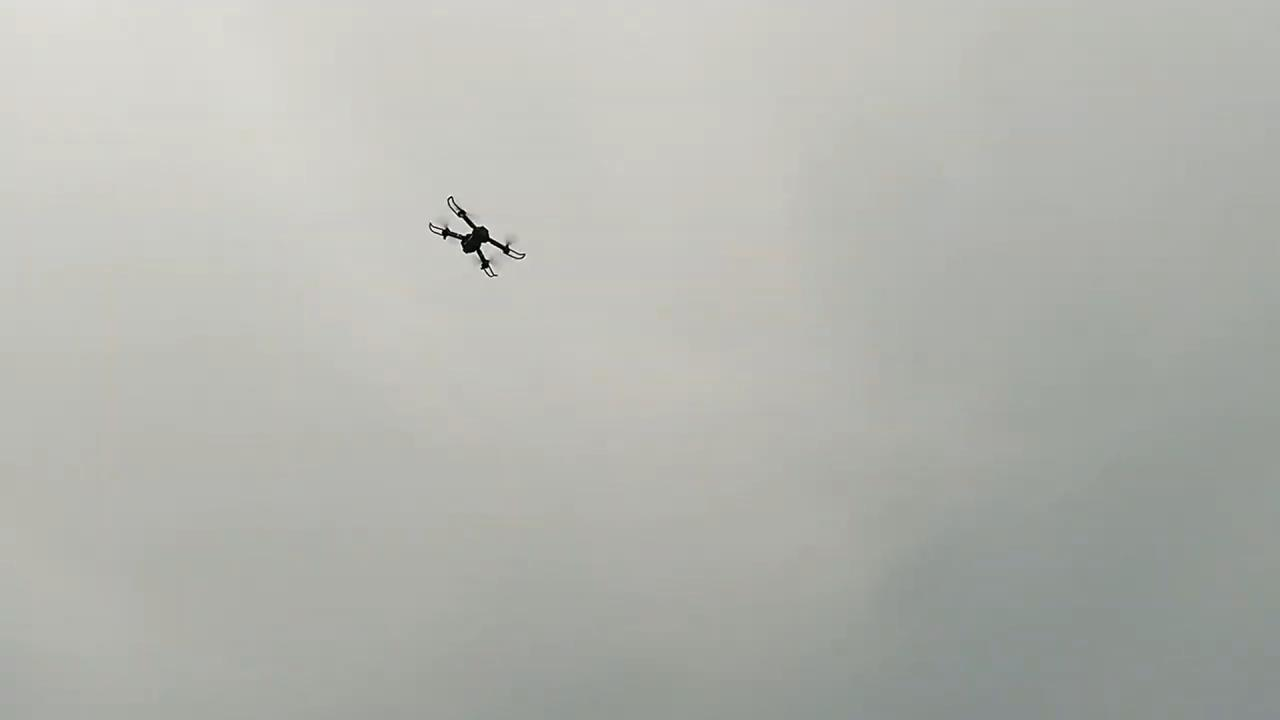Drone: (416, 183, 537, 291)
